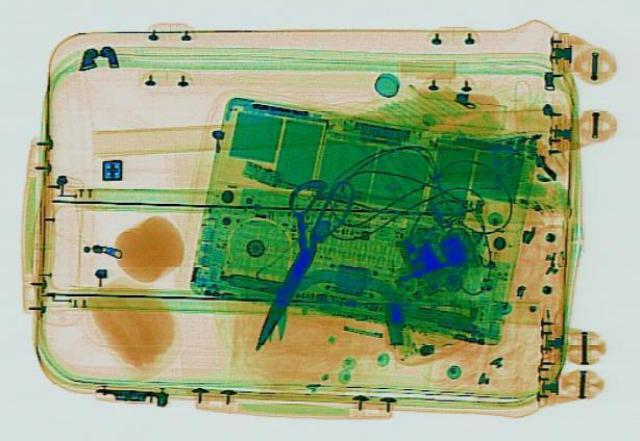Scissors: (224, 171, 360, 354)
